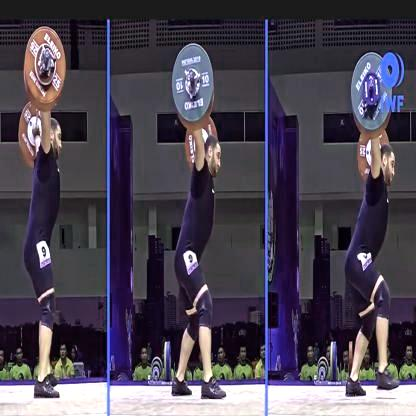Barbell: (367, 73, 375, 88), (189, 67, 196, 80), (45, 48, 52, 60)
